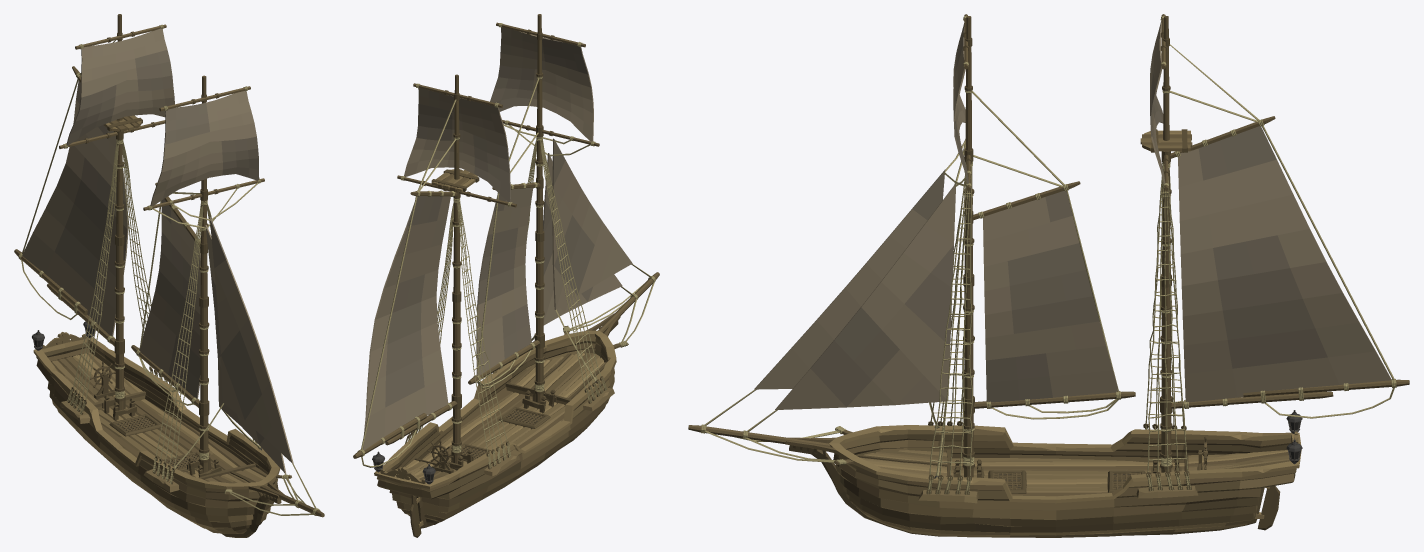
File: MediumShip_3.fbx
3 views of the same model, side by side, from view 1: azimuth 30°, elevation 25°; view 2: azimuth 150°, elevation 25°; view 3: azimuth 270°, elevation 25° (orthographic). The views are drawn at different scales.
Visible parts, largest first — view 1: MediumShip_3, MediumShip_3_Mast1_Sails3, MediumShip_3_Mast1_Sails2, MediumShip_3_Mast1_Sails1, MediumShip_3_Mast2, MediumShip_3_Mast1; view 2: MediumShip_3, MediumShip_3_Mast1_Sails3, MediumShip_3_Mast1_Sails2, MediumShip_3_Mast1_Sails1, MediumShip_3_Mast2, MediumShip_3_Mast1; view 3: MediumShip_3, MediumShip_3_Mast1_Sails3, MediumShip_3_Mast1_Sails1, MediumShip_3_Mast1_Sails2, MediumShip_3_Mast2, MediumShip_3_Mast1.
Part boxes in pixels (x1,y1,x2,y2): MediumShip_3: (32, 140, 324, 537); MediumShip_3_Mast1_Sails3: (22, 28, 174, 336); MediumShip_3_Mast1_Sails2: (139, 91, 259, 398); MediumShip_3_Mast1_Sails1: (205, 217, 293, 473); MediumShip_3_Mast2: (14, 14, 166, 416); MediumShip_3_Mast1: (131, 75, 264, 472); MediumShip_3: (372, 139, 659, 537); MediumShip_3_Mast1_Sails3: (362, 88, 510, 450); MediumShip_3_Mast1_Sails2: (476, 27, 593, 375); MediumShip_3_Mast1_Sails1: (543, 138, 632, 325); MediumShip_3_Mast2: (353, 74, 516, 467); MediumShip_3_Mast1: (468, 14, 599, 409); MediumShip_3: (688, 163, 1302, 537); MediumShip_3_Mast1_Sails3: (1150, 20, 1391, 402); MediumShip_3_Mast1_Sails1: (754, 169, 956, 409); MediumShip_3_Mast1_Sails2: (953, 23, 1118, 402); MediumShip_3_Mast2: (1140, 14, 1409, 472); MediumShip_3_Mast1: (943, 14, 1135, 477).
Bounding box in the file's own units: 718 × 2542 × 3190.
